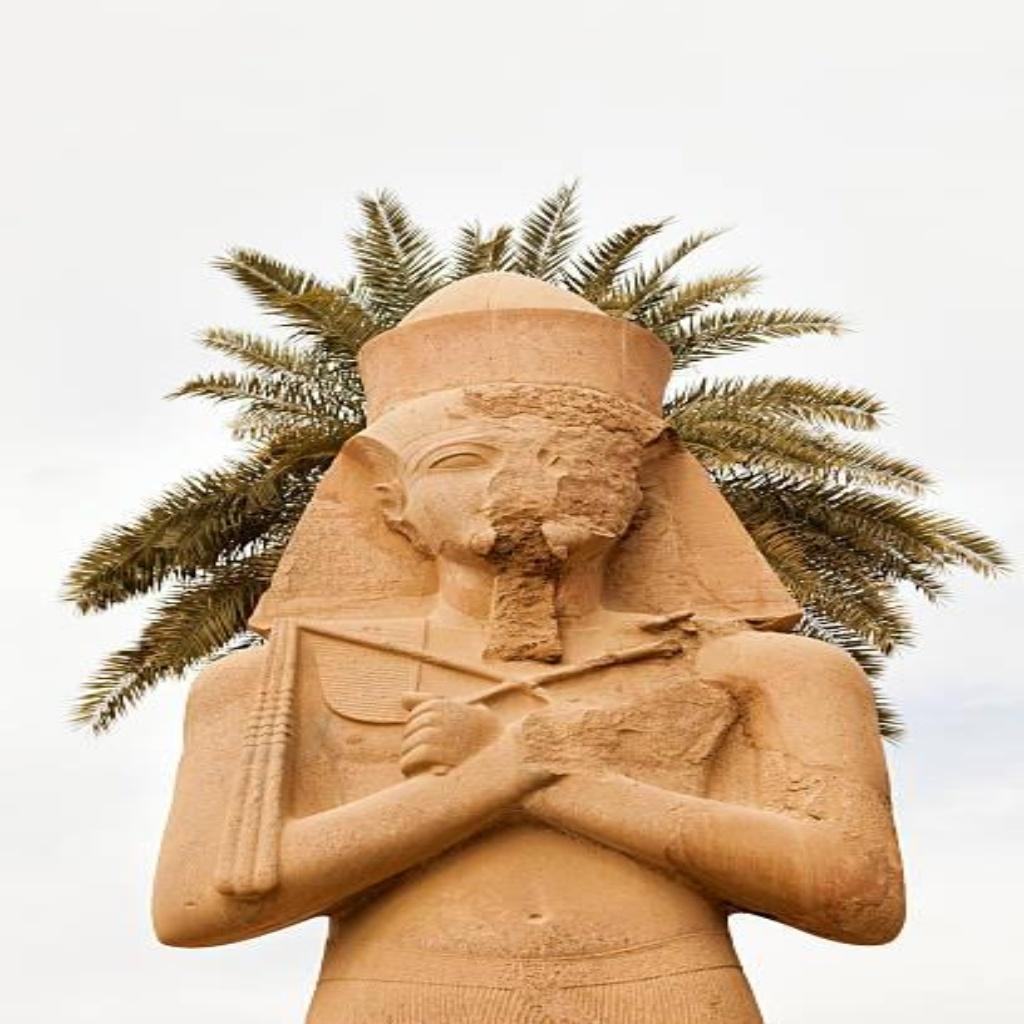Standing Statue of King Ramses II: (143, 268, 911, 1020)
